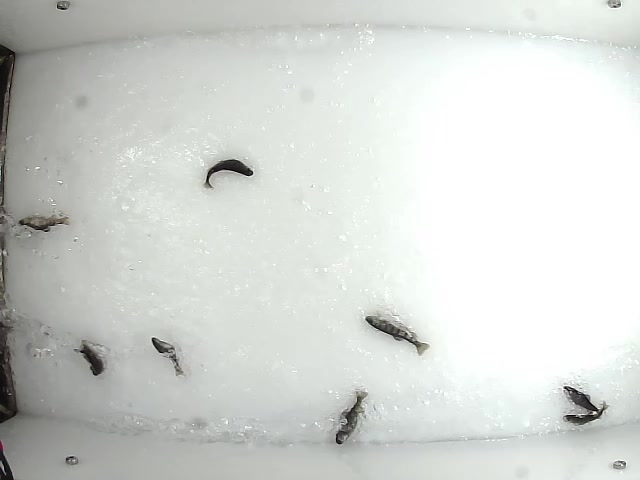fish: (362, 314, 430, 355), (333, 389, 370, 444), (201, 158, 254, 190), (563, 385, 606, 420), (152, 335, 185, 378), (560, 400, 611, 424), (16, 211, 73, 232), (78, 340, 107, 378)
